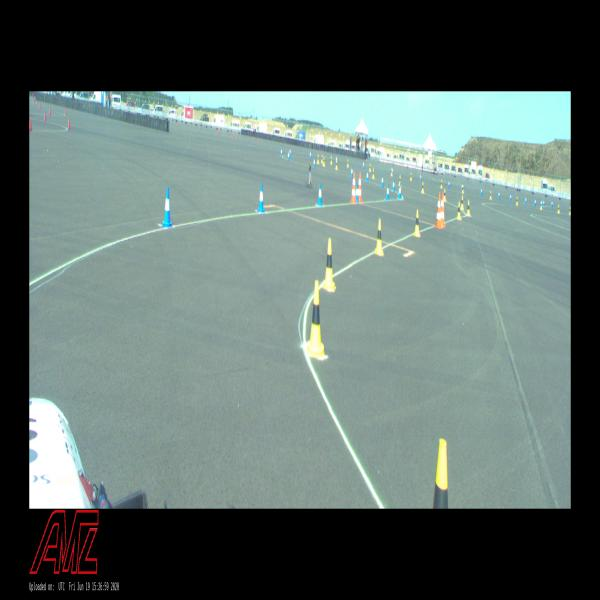blue_cone: (162, 187, 173, 228), (258, 183, 264, 213), (317, 182, 323, 206), (386, 184, 390, 200), (356, 183, 359, 203), (399, 182, 402, 198), (398, 185, 401, 199), (392, 178, 395, 192), (366, 170, 369, 183), (381, 175, 384, 187), (287, 150, 290, 161), (350, 166, 353, 177), (313, 157, 315, 168), (280, 148, 282, 157), (480, 187, 482, 196), (289, 148, 291, 157), (448, 180, 450, 188), (551, 200, 553, 208), (510, 193, 512, 201), (524, 196, 526, 204), (540, 200, 542, 208), (534, 198, 536, 206), (498, 191, 500, 199), (335, 155, 337, 163), (391, 167, 393, 175), (420, 173, 422, 180), (543, 199, 545, 206), (310, 151, 311, 159), (363, 161, 364, 169), (462, 183, 463, 191)
large_orange_cone: (435, 193, 442, 228), (439, 192, 445, 227), (350, 172, 356, 204), (358, 171, 362, 203)
orange_cone: (29, 118, 32, 130), (68, 118, 70, 129), (44, 112, 46, 121), (49, 107, 51, 115), (65, 108, 67, 114), (34, 97, 35, 103), (39, 104, 40, 109)
yellow_cone: (307, 280, 324, 358), (432, 440, 449, 508), (324, 239, 337, 289), (374, 218, 384, 256), (413, 210, 421, 237), (437, 203, 442, 228), (456, 202, 462, 220), (467, 200, 470, 217), (461, 196, 464, 210), (421, 181, 424, 193), (372, 168, 375, 179), (489, 190, 492, 200), (335, 160, 338, 170), (440, 179, 443, 188), (346, 159, 349, 168), (444, 189, 446, 202), (557, 205, 560, 213), (398, 176, 401, 184), (323, 156, 325, 167), (516, 196, 518, 206), (317, 154, 319, 164), (321, 154, 323, 164), (462, 185, 464, 194), (410, 172, 412, 180), (369, 164, 371, 172), (330, 156, 332, 164), (540, 202, 542, 210), (390, 169, 392, 177), (569, 206, 570, 214)
